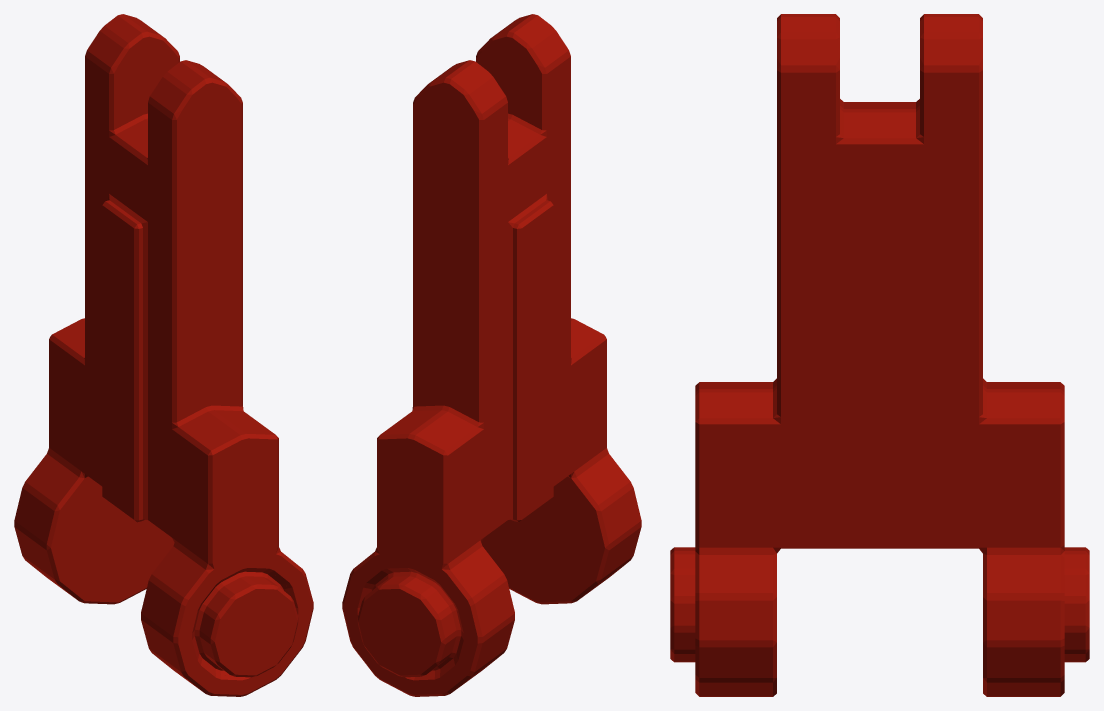
3 renders of one model, left to right at view 1: azimuth 30°, elevation 25°; view 2: azimuth 150°, elevation 25°; view 3: azimuth 270°, elevation 25°, orthographic. The views are drawn at different scales.
Visible parts, largest first — view 1: node0; view 2: node0; view 3: node0.
Part boxes in pixels (<box>): node0: <box>14,14,313,696</box>; node0: <box>342,14,641,696</box>; node0: <box>670,14,1089,696</box>.
Size of the model in its own units: 1.34 by 3.05 by 5.4.
